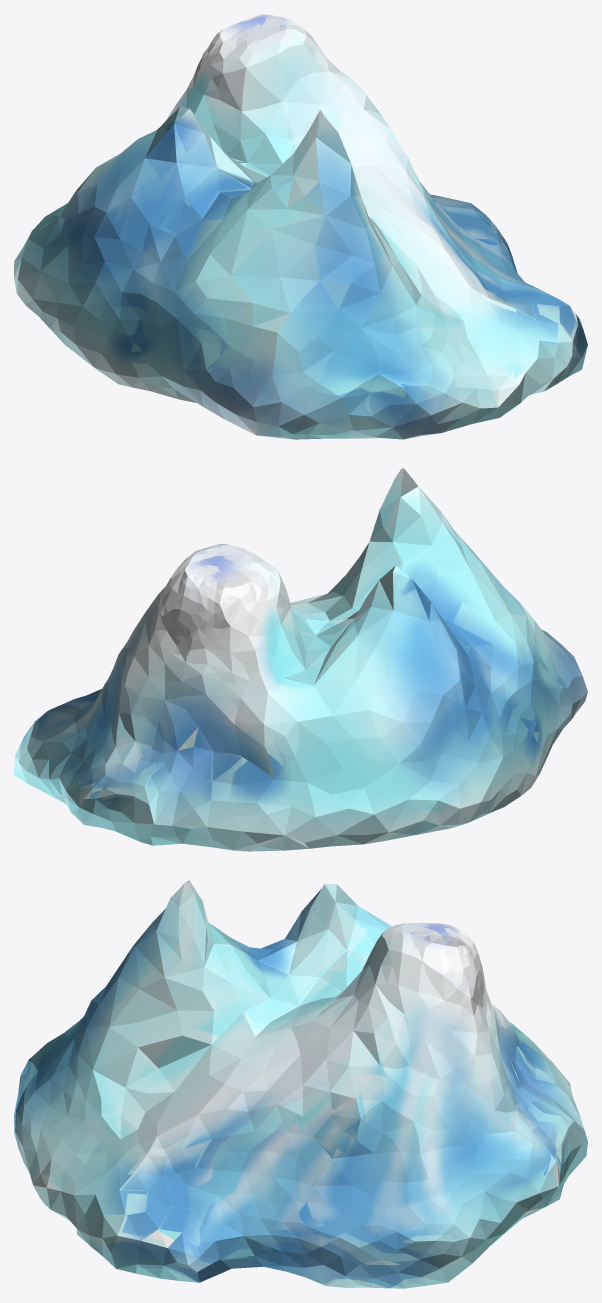
The model's file is iceberg2melt.fbx.
3 renders of one model, top to bottom at view 1: azimuth 30°, elevation 25°; view 2: azimuth 150°, elevation 25°; view 3: azimuth 270°, elevation 25°, orthographic. The views are drawn at different scales.
Parts seen in each view (by area): view 1: Icosphere; view 2: Icosphere; view 3: Icosphere.
Part boxes in pixels (x1,y1,x2,y2): Icosphere: [14, 14, 587, 439]; Icosphere: [14, 468, 587, 851]; Icosphere: [14, 880, 587, 1288].
Size of the model in its own units: 10304 by 6188 by 11341.
